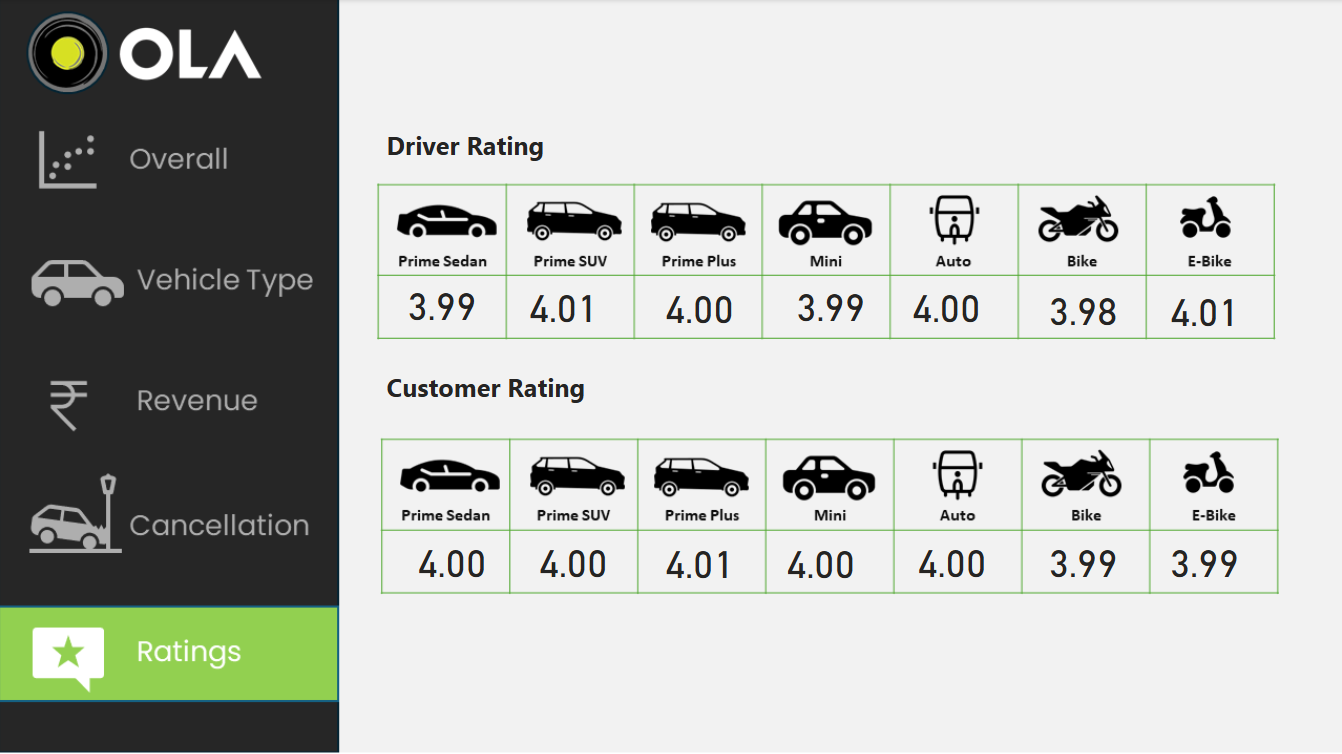

The dashboard page shown, as its layout file describes it:
{"tool":"powerbi","page":{"name":"Ratings","canvas":[1280,720],"ordinal":4},"visuals":[{"type":"actionButton","box":[20.2,444,291.7,102.4],"z":0},{"type":"actionButton","box":[20.2,117.9,291.7,66.7],"z":1000},{"type":"actionButton","box":[20.2,347.6,291.7,71.4],"z":2000},{"type":"actionButton","box":[20.2,226.2,291.7,85.7],"z":3000},{"type":"card","fields":{"Values":["Avg(Ola.Driver_Ratings)"]},"box":[363.2,268.4,115.8,43.4],"z":4000},{"type":"card","fields":{"Values":["Avg(Ola.Driver_Ratings)"]},"box":[478.9,269.7,115.8,43.4],"z":5000},{"type":"card","fields":{"Values":["Avg(Ola.Driver_Ratings)"]},"box":[607.9,271.1,115.8,43.4],"z":6000},{"type":"card","fields":{"Values":["Avg(Ola.Driver_Ratings)"]},"box":[732.9,265.8,115.8,50],"z":7000},{"type":"card","fields":{"Values":["Avg(Ola.Driver_Ratings)"]},"box":[848.7,269.7,105.3,43.4],"z":8000},{"type":"card","fields":{"Values":["Avg(Ola.Driver_Ratings)"]},"box":[973.7,272.4,115.8,43.4],"z":9000},{"type":"card","fields":{"Values":["Avg(Ola.Customer_Rating)"]},"box":[372.4,513.2,115.8,43.4],"z":10000},{"type":"card","fields":{"Values":["Avg(Ola.Customer_Rating)"]},"box":[488.2,513.2,115.8,43.4],"z":11000},{"type":"card","fields":{"Values":["Avg(Ola.Customer_Rating)"]},"box":[607.9,514.5,115.8,43.4],"z":12000},{"type":"card","fields":{"Values":["Avg(Ola.Customer_Rating)"]},"box":[723.7,514.5,115.8,43.4],"z":13000},{"type":"card","fields":{"Values":["Avg(Ola.Customer_Rating)"]},"box":[848.7,513.2,115.8,43.4],"z":14000},{"type":"card","fields":{"Values":["Avg(Ola.Customer_Rating)"]},"box":[973.7,513.2,115.8,43.4],"z":15000},{"type":"card","fields":{"Values":["Avg(Ola.Customer_Rating)"]},"box":[1089.5,513.2,115.8,43.4],"z":16000},{"type":"card","fields":{"Values":["Avg(Ola.Driver_Ratings)"]},"box":[1089.5,273.7,115.8,43.4],"z":17000},{"type":"textbox","box":[362.6,348.3,232.2,57.3],"z":18000},{"type":"textbox","box":[362.6,117.7,232.2,46.1],"z":18001}]}

Visuals, with their boxes on the page's 1280x720 design canvas (x1, y1, x2, y2). These are canvas units, not pixel positions in the 1342x754 screenshot, which may show the page scaled, cropped or inside an application window:
actionButton: (20, 444, 312, 546)
actionButton: (20, 118, 312, 185)
actionButton: (20, 348, 312, 419)
actionButton: (20, 226, 312, 312)
card - Avg(Ola.Driver_Ratings): (363, 268, 479, 312)
card - Avg(Ola.Driver_Ratings): (479, 270, 595, 313)
card - Avg(Ola.Driver_Ratings): (608, 271, 724, 314)
card - Avg(Ola.Driver_Ratings): (733, 266, 849, 316)
card - Avg(Ola.Driver_Ratings): (849, 270, 954, 313)
card - Avg(Ola.Driver_Ratings): (974, 272, 1090, 316)
card - Avg(Ola.Customer_Rating): (372, 513, 488, 557)
card - Avg(Ola.Customer_Rating): (488, 513, 604, 557)
card - Avg(Ola.Customer_Rating): (608, 514, 724, 558)
card - Avg(Ola.Customer_Rating): (724, 514, 840, 558)
card - Avg(Ola.Customer_Rating): (849, 513, 964, 557)
card - Avg(Ola.Customer_Rating): (974, 513, 1090, 557)
card - Avg(Ola.Customer_Rating): (1090, 513, 1205, 557)
card - Avg(Ola.Driver_Ratings): (1090, 274, 1205, 317)
textbox: (363, 348, 595, 406)
textbox: (363, 118, 595, 164)
